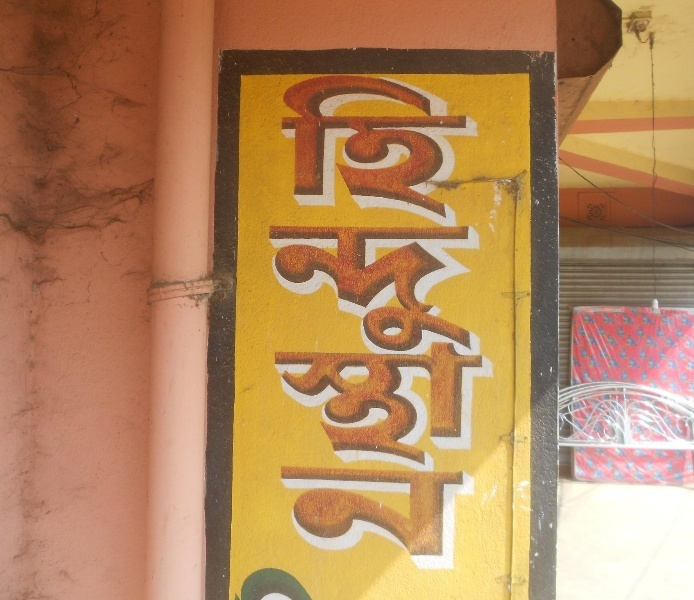text: (273, 72, 288, 574), (289, 72, 304, 574), (305, 72, 320, 574), (321, 72, 336, 574), (337, 72, 352, 574), (353, 72, 368, 574), (369, 72, 384, 574), (385, 72, 400, 574), (401, 72, 416, 574), (417, 72, 432, 574), (433, 72, 448, 574), (449, 72, 464, 574), (465, 72, 480, 574), (481, 72, 493, 574), (257, 556, 272, 599), (273, 556, 288, 599), (289, 556, 304, 599), (305, 556, 320, 599), (243, 556, 256, 599), (321, 556, 329, 599)
